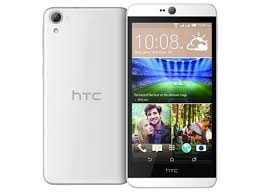htc: (123, 3, 220, 188), (37, 3, 129, 187)
